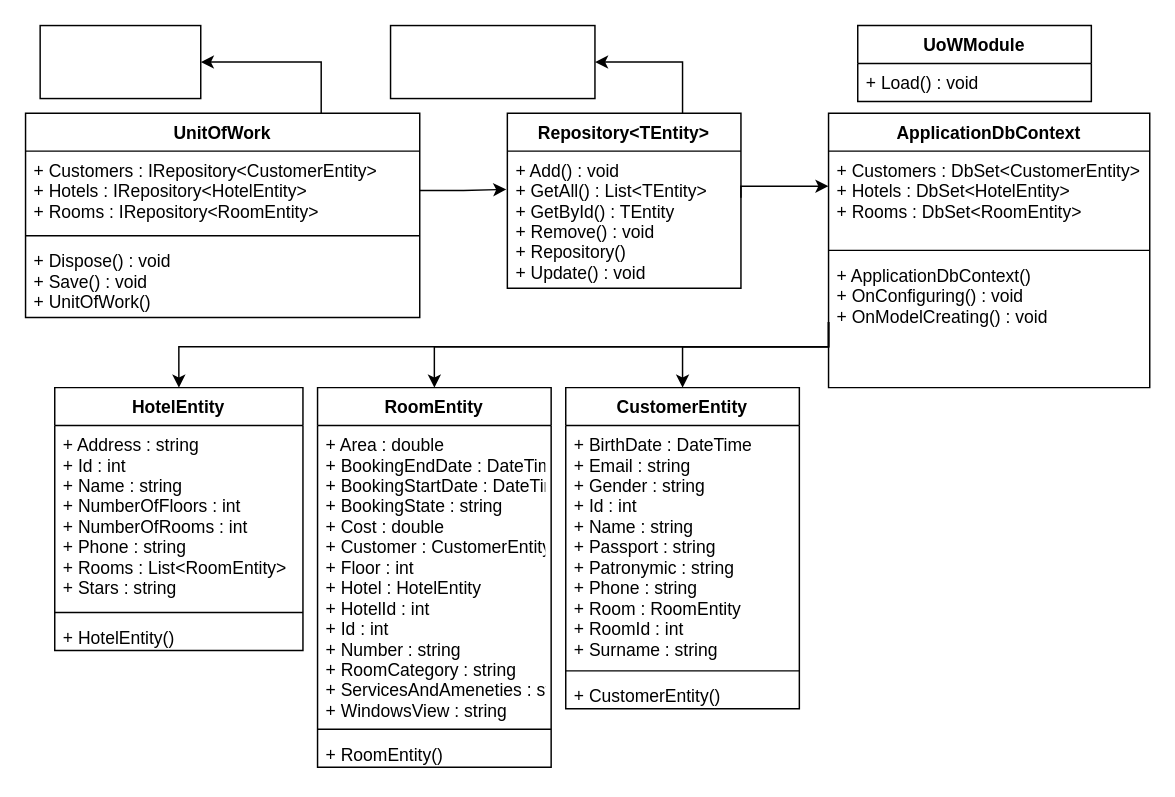
Image size: 1175x797. Some labels were removed from this diagram. Here are the shapes that lost their labels. From the top down, the centre of each, then its label:
At (x=120, y=61): "«interface» IUnitOfWork".
At (x=492, y=61): "«interface» IRepository<TEntity>".
